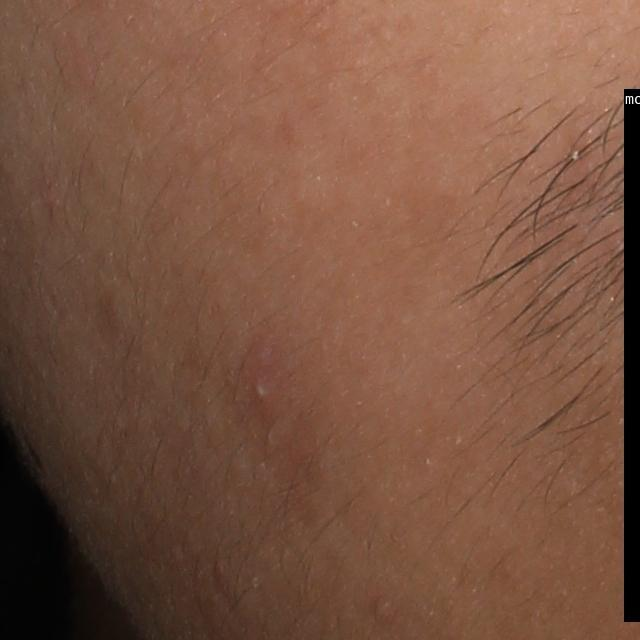pustule: (250, 376, 274, 406)
